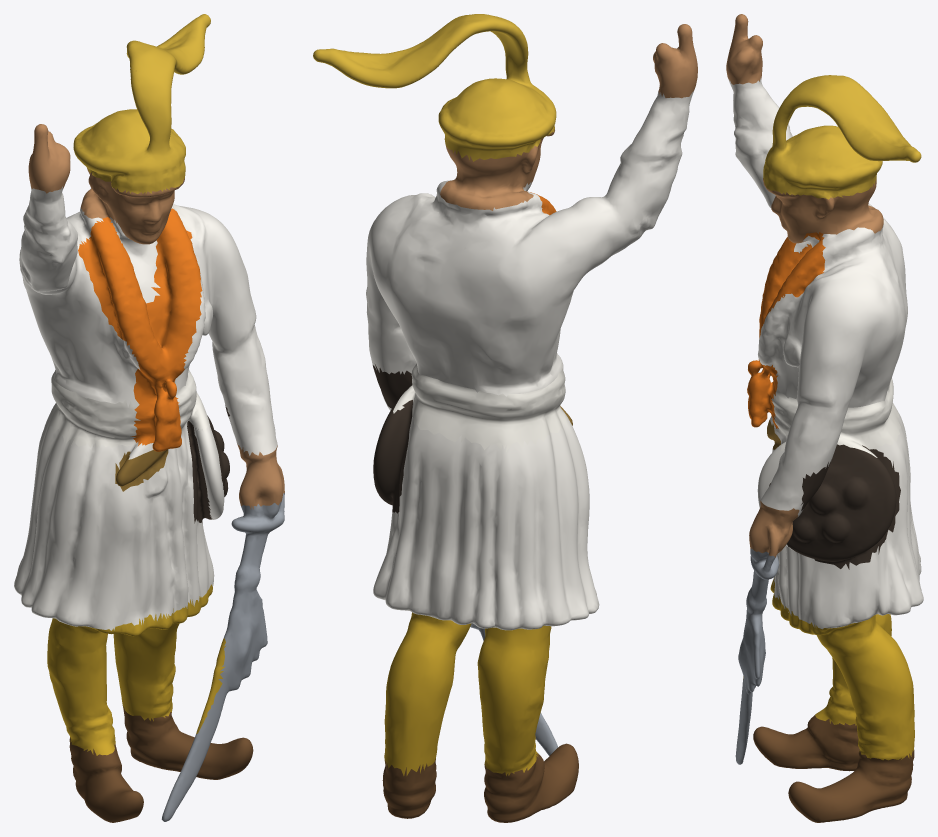
Rendered from prithvi_narayan_shah.glb.
3 renders of one model, left to right at view 1: azimuth 30°, elevation 25°; view 2: azimuth 150°, elevation 25°; view 3: azimuth 270°, elevation 25°, orthographic. The views are drawn at different scales.
Parts seen in each view (by area): view 1: jama, mala, suruwal, shripech, jutta, tarwar, patuka, hands, head, dhal, khukuri; view 2: jama, suruwal, shripech, patuka, jutta, head, dhal, hands; view 3: jama, shripech, suruwal, dhal, jutta, mala, head, tarwar, hands, patuka.
Boxes of the visible parts, x1,y1,x2,y2 form: jama: (14, 186, 277, 630); mala: (78, 208, 202, 451); suruwal: (47, 584, 225, 755); shripech: (73, 14, 210, 193); jutta: (69, 705, 253, 822); tarwar: (161, 492, 284, 821); patuka: (49, 369, 209, 450); hands: (28, 124, 284, 509); head: (81, 167, 184, 244); dhal: (187, 405, 229, 523); khukuri: (115, 449, 168, 491); jama: (366, 89, 694, 630); suruwal: (384, 612, 551, 775); shripech: (313, 14, 556, 161); patuka: (393, 363, 568, 451); jutta: (382, 743, 578, 822); head: (440, 129, 554, 210); dhal: (373, 364, 412, 513); hands: (653, 24, 697, 98); jama: (728, 78, 923, 629); shripech: (763, 75, 921, 199); suruwal: (743, 577, 914, 760); dhal: (769, 444, 900, 569); jutta: (753, 714, 914, 822); mala: (747, 232, 825, 428); head: (763, 178, 883, 243); tarwar: (735, 548, 778, 764); hands: (726, 14, 799, 557); patuka: (771, 378, 900, 457).
Bounding box in the file's own units: 0.7837 × 2.05 × 0.5206.
